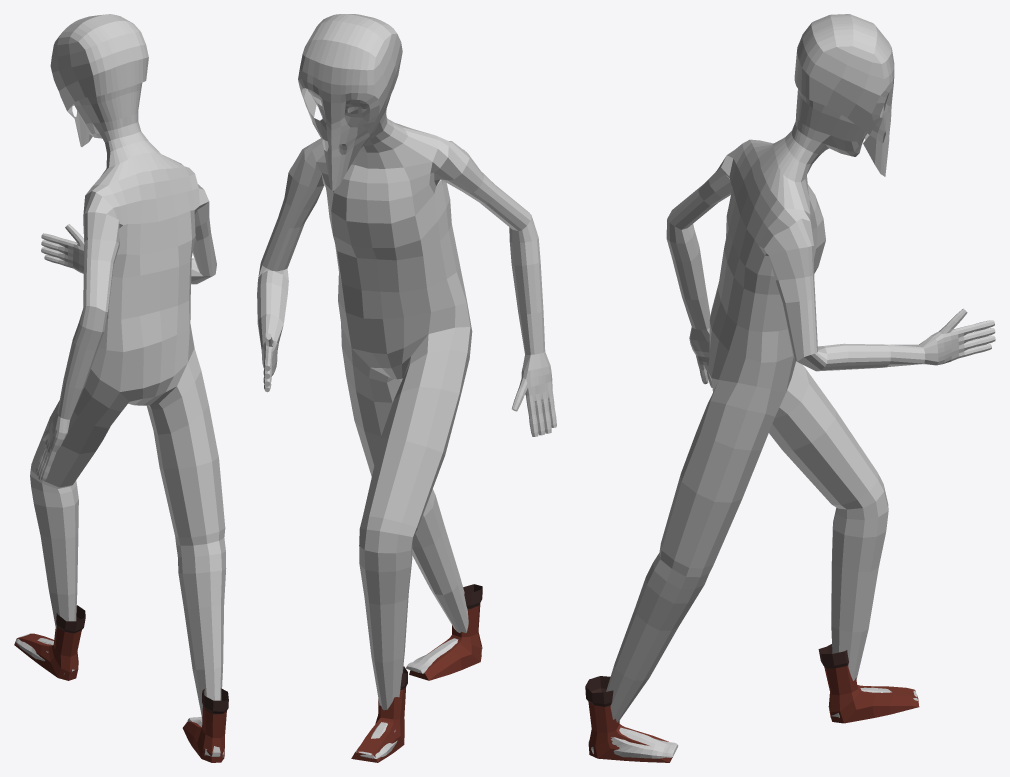
The model's file is marcha5_000036.obj.
3 views of the same model, side by side, from view 1: azimuth 30°, elevation 25°; view 2: azimuth 150°, elevation 25°; view 3: azimuth 270°, elevation 25° (orthographic). The views are drawn at different scales.
Parts seen in each view (by area): view 1: Plane.002_Plane.001, Plane.004, Plane.003; view 2: Plane.002_Plane.001, Plane.003, Plane.004; view 3: Plane.002_Plane.001, Plane.004, Plane.003.
Part boxes in pixels (x1=…): Plane.002_Plane.001: x1=15, y1=14, x2=226, y2=757; Plane.004: x1=14, y1=605, x2=85, y2=680; Plane.003: x1=182, y1=688, x2=228, y2=762; Plane.002_Plane.001: x1=257, y1=14, x2=556, y2=758; Plane.003: x1=409, y1=584, x2=482, y2=680; Plane.004: x1=351, y1=666, x2=407, y2=762; Plane.002_Plane.001: x1=588, y1=14, x2=995, y2=758; Plane.004: x1=818, y1=644, x2=919, y2=723; Plane.003: x1=585, y1=676, x2=672, y2=762.
Bounding box in the file's own units: 2.36 × 6.77 × 3.44.
